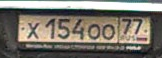character: (56, 17, 71, 40), (72, 17, 85, 41), (26, 21, 41, 41), (44, 17, 56, 41), (101, 23, 115, 42), (87, 23, 101, 41), (120, 16, 132, 35), (132, 16, 144, 35)
